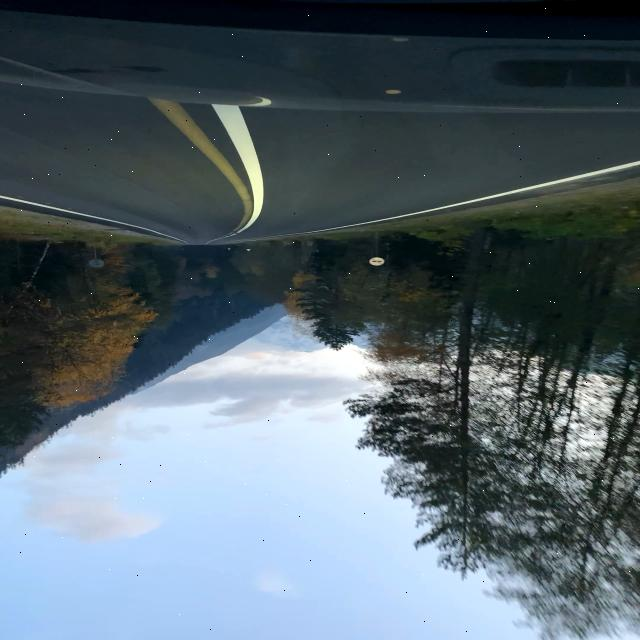lane: (361, 165, 638, 224), (151, 99, 244, 203), (0, 196, 125, 224)
road: (1, 2, 639, 241)
